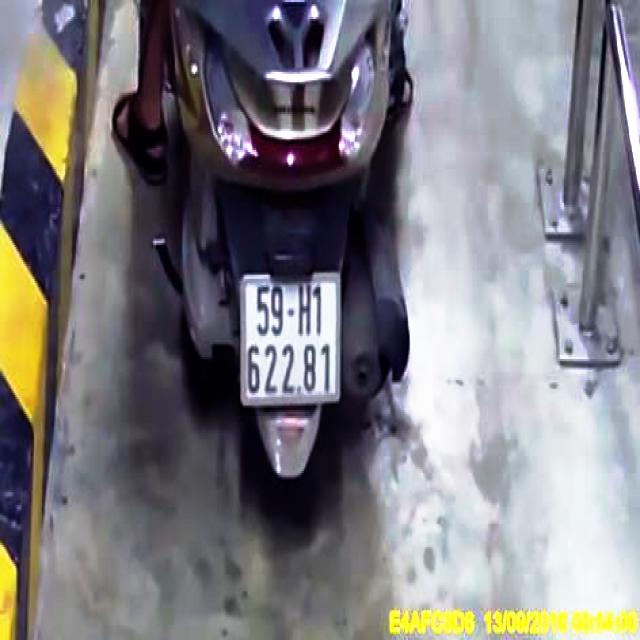license_plate: (241, 276, 341, 409)
